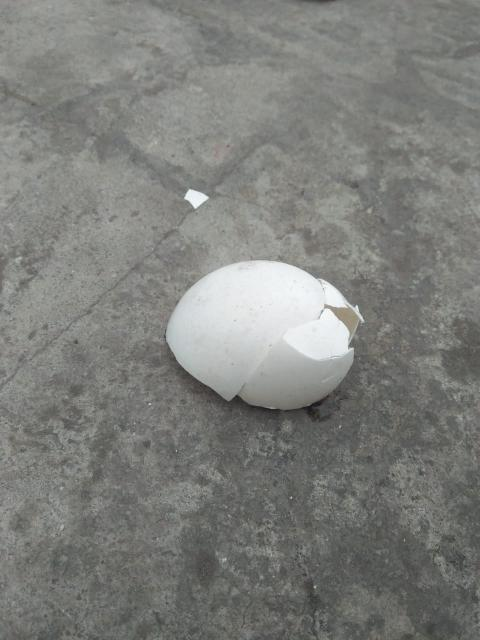Roto: (164, 258, 364, 411)
